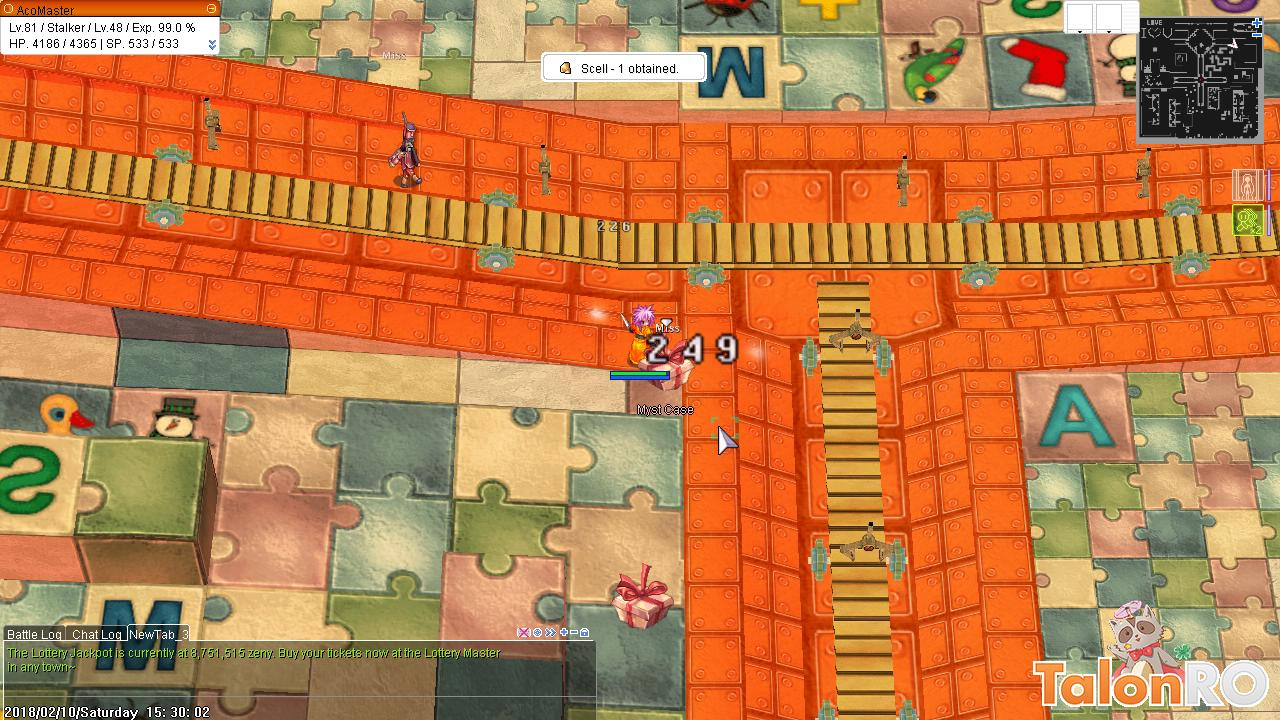mob: (386, 102, 429, 195)
myst_case: (608, 561, 678, 634), (636, 343, 696, 398)
